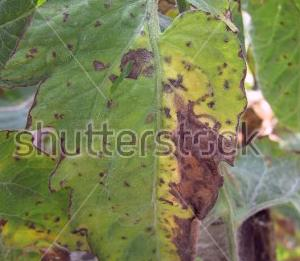Tomato leaf bacterial spot: (0, 0, 247, 261), (0, 129, 117, 261)
